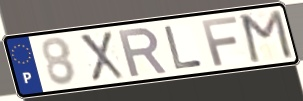8: (40, 35, 79, 89)
F: (200, 14, 240, 68)
L: (162, 24, 205, 71)
M: (239, 8, 296, 65)
R: (116, 26, 169, 79)
X: (76, 30, 127, 83)
